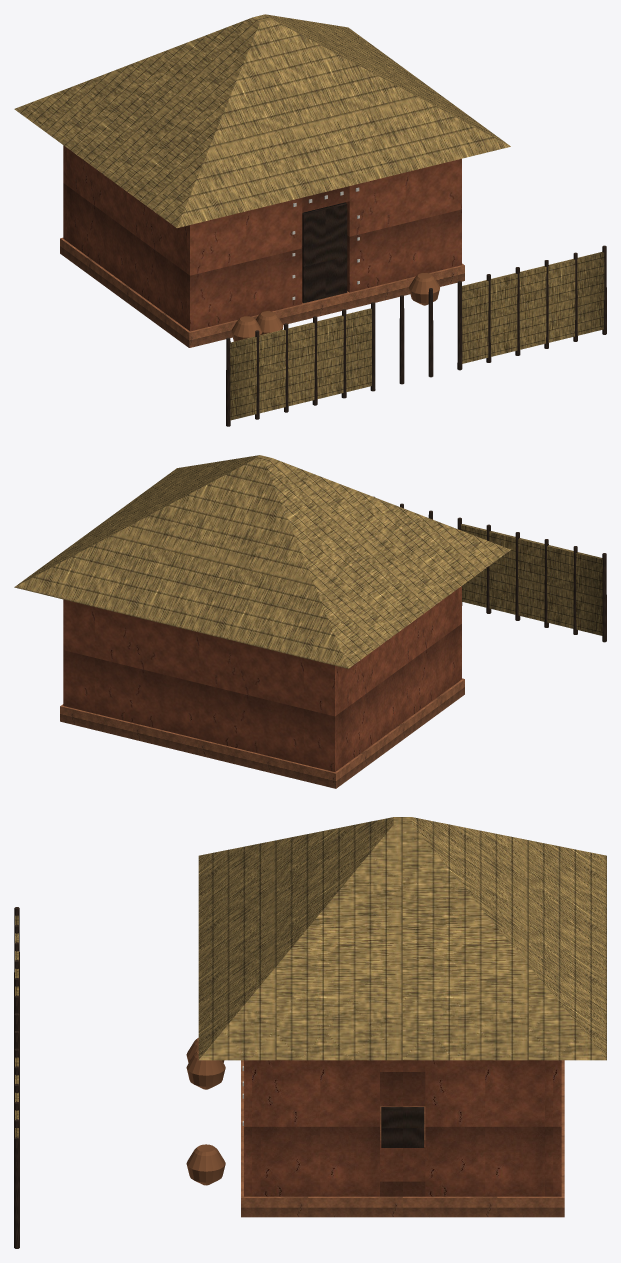
Rendered from az-healer.glb.
The picture shows the model from 3 angles, top to bottom: view 1: azimuth 30°, elevation 25°; view 2: azimuth 150°, elevation 25°; view 3: azimuth 270°, elevation 25°; orthographic projection. The views are drawn at different scales.
Parts seen in each view (by area): view 1: az-healer_az_thatch, az-healer_az_banco, az-healer_az_wood_dark, az-healer_az_banco2; view 2: az-healer_az_thatch, az-healer_az_banco, az-healer_az_banco2, az-healer_az_wood_dark; view 3: az-healer_az_thatch, az-healer_az_banco, az-healer_az_banco2, az-healer_az_wood_dark.
Part boxes in pixels (x1,y1,x2,y2): az-healer_az_thatch: (14,14,604,420); az-healer_az_banco: (63,145,461,331); az-healer_az_wood_dark: (226,203,606,426); az-healer_az_banco2: (60,206,464,347); az-healer_az_thatch: (14,455,602,668); az-healer_az_banco: (63,586,461,771); az-healer_az_banco2: (60,678,464,788); az-healer_az_wood_dark: (373,496,606,642); az-healer_az_thatch: (15,817,606,1137); az-healer_az_banco: (244,1060,561,1196); az-healer_az_banco2: (186,1038,564,1217); az-healer_az_wood_dark: (14,907,424,1248).
Bounding box in the file's own units: 7.27 × 4.55 × 7.84.
6 materials, 4 textured.
